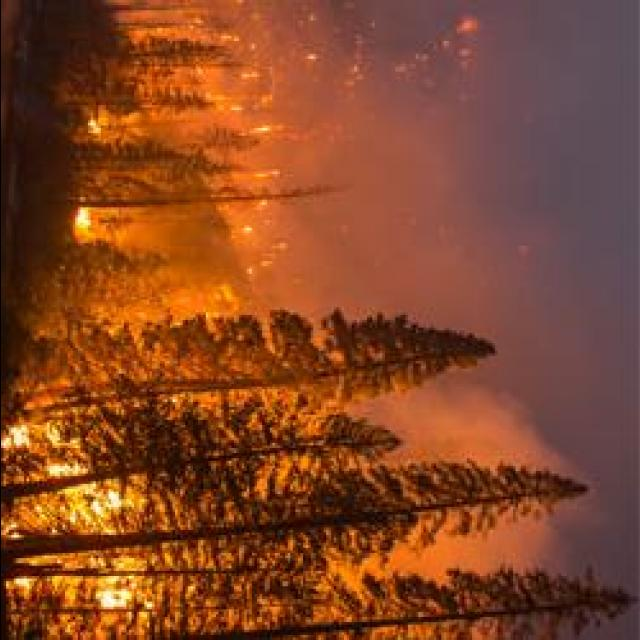fire: (92, 582, 136, 614), (94, 488, 125, 514), (8, 418, 30, 448), (71, 208, 95, 232)
smoke: (338, 120, 447, 213), (410, 391, 526, 451), (482, 531, 534, 565)
